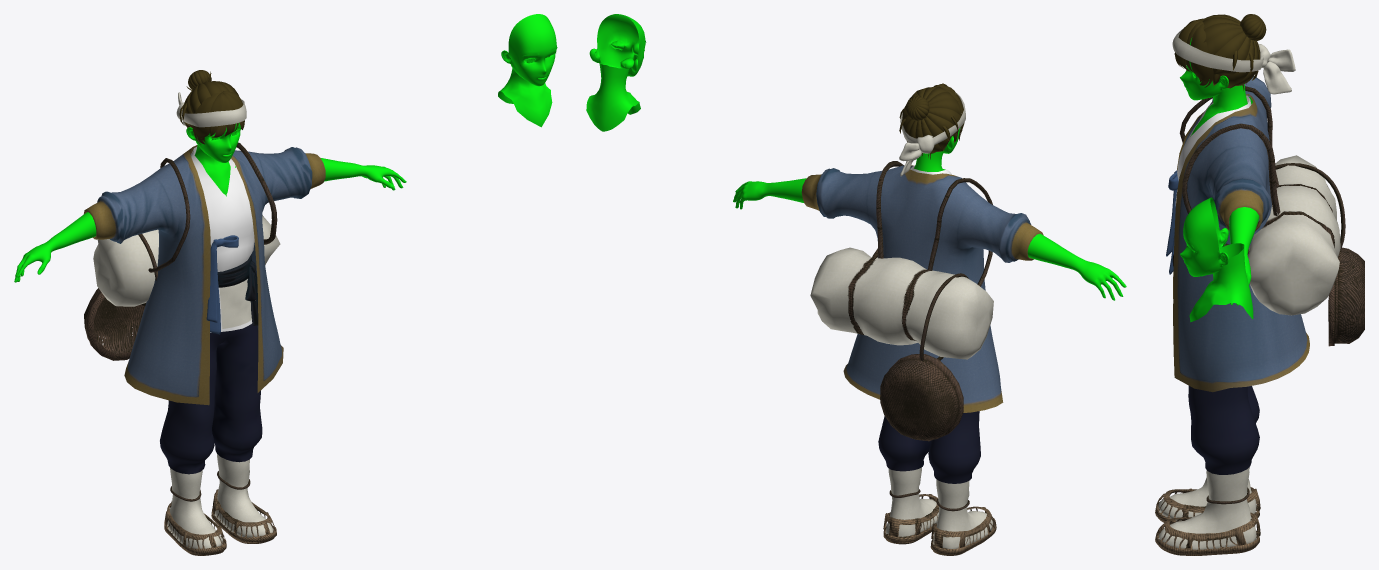
3 views of the same model, side by side, from view 1: azimuth 30°, elevation 25°; view 2: azimuth 150°, elevation 25°; view 3: azimuth 270°, elevation 25° (orthographic). The views are drawn at different scales.
Visible parts, largest first — view 1: robe_low, pants_low, face001, bundle_low, top_low, Woven_low, hair, socks_low, socks_low001, face, arm001, arm (+6 smaller); view 2: robe_low, bundle_low, Woven_low, face001, pants_low, hair, socks_low001, socks_low, arm001, shoes_low001, arm, Bandana_low (+3 smaller); view 3: robe_low, bundle_low, pants_low, face001, hair, socks_low, Woven_low, Bandana_low, shoes_low, face, L_rope_low, arm (+6 smaller).
Part boxes in pixels (<box>): robe_low: <box>84,145,325,405</box>; pants_low: <box>160,323,262,474</box>; face001: <box>498,14,557,127</box>; bundle_low: <box>93,215,280,306</box>; top_low: <box>191,147,254,332</box>; Woven_low: <box>84,288,144,360</box>; hair: <box>179,70,244,144</box>; socks_low: <box>214,454,273,537</box>; socks_low001: <box>167,468,222,548</box>; face: <box>186,123,240,196</box>; arm001: <box>14,212,96,282</box>; arm: <box>321,158,406,190</box>; robe_low: <box>801,165,1043,412</box>; bundle_low: <box>810,247,993,359</box>; Woven_low: <box>880,354,963,441</box>; face001: <box>586,14,646,131</box>; pants_low: <box>878,411,980,483</box>; hair: <box>899,83,964,159</box>; socks_low001: <box>933,479,992,548</box>; socks_low: <box>885,467,938,536</box>; arm001: <box>1027,233,1126,300</box>; shoes_low001: <box>930,506,996,555</box>; arm: <box>733,178,806,209</box>; Bandana_low: <box>899,93,965,176</box>; robe_low: <box>1173,76,1309,392</box>; bundle_low: <box>1247,155,1340,315</box>; pants_low: <box>1188,386,1259,474</box>; face001: <box>1180,197,1253,322</box>; hair: <box>1174,14,1266,90</box>; socks_low: <box>1158,468,1256,549</box>; Woven_low: <box>1328,247,1364,346</box>; Bandana_low: <box>1172,29,1295,94</box>; shoes_low: <box>1155,512,1260,555</box>; face: <box>1180,37,1247,136</box>; L_rope_low: <box>1182,123,1280,254</box>; arm: <box>1229,207,1259,305</box>.
Bounding box in the file's own units: 224 × 181 × 66.22.
